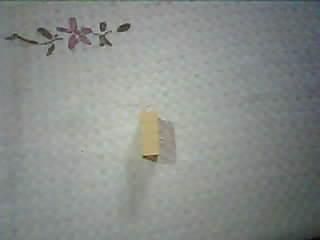lego: (137, 107, 159, 161)
